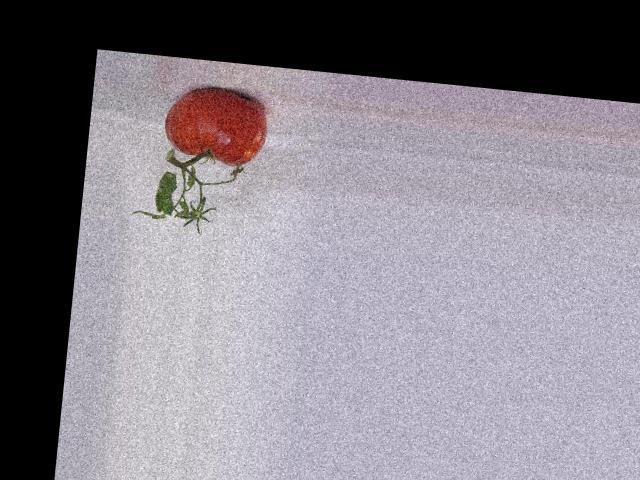tomato: (161, 83, 271, 168)
